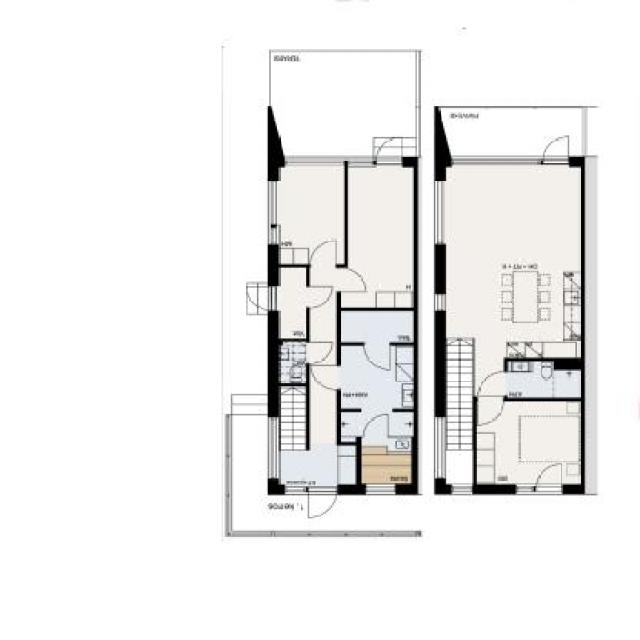door: (476, 369, 506, 423), (540, 131, 575, 166), (310, 486, 342, 522), (306, 237, 342, 268), (366, 342, 394, 376), (337, 268, 371, 294), (372, 139, 408, 163), (309, 364, 342, 388), (243, 286, 277, 309), (537, 463, 563, 492), (363, 412, 392, 437), (306, 286, 336, 308), (306, 342, 336, 363)
window: (451, 154, 543, 169), (284, 154, 376, 168), (432, 179, 446, 246), (436, 414, 450, 478), (269, 416, 282, 476), (268, 180, 280, 242), (366, 484, 397, 496), (451, 483, 474, 495), (288, 484, 308, 496), (434, 295, 446, 314), (514, 483, 534, 494)
zone: (446, 166, 583, 392), (269, 51, 417, 154), (346, 165, 416, 306), (472, 396, 576, 486), (280, 386, 358, 485), (275, 269, 340, 380), (276, 164, 346, 264), (444, 339, 476, 483), (338, 346, 411, 409), (506, 363, 582, 399), (340, 308, 412, 343), (361, 443, 414, 483), (342, 412, 412, 442)
